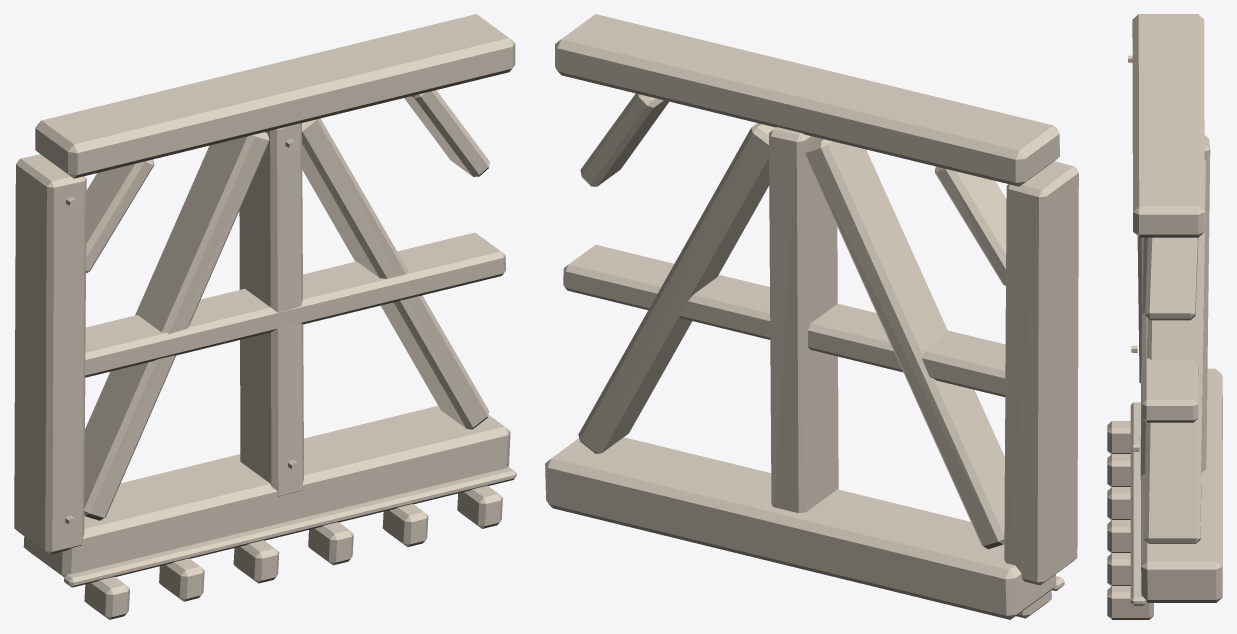
Rendered from SM_VK_Wall_Timber_Frame.fbx.
The picture shows the model from 3 angles, left to right: view 1: azimuth 30°, elevation 25°; view 2: azimuth 150°, elevation 25°; view 3: azimuth 270°, elevation 25°; orthographic projection. The views are drawn at different scales.
Parts seen in each view (by area): view 1: SM_VK_Wall_Timber_Frame.001; view 2: SM_VK_Wall_Timber_Frame.001; view 3: SM_VK_Wall_Timber_Frame.001.
Part boxes in pixels (x1,y1,x2,y2): SM_VK_Wall_Timber_Frame.001: (14,14,516,619); SM_VK_Wall_Timber_Frame.001: (545,14,1078,619); SM_VK_Wall_Timber_Frame.001: (1107,14,1222,619).
Size of the model in its own units: 3.13 by 3.01 by 0.7395.
